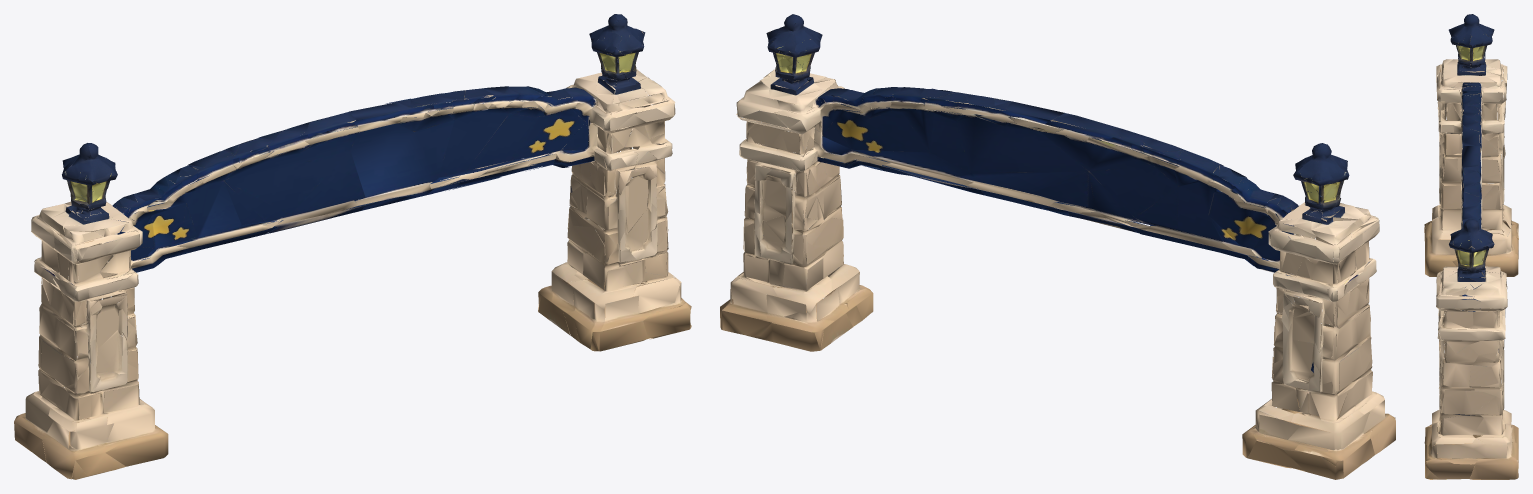
Rendered from arch.glb.
3 renders of one model, left to right at view 1: azimuth 30°, elevation 25°; view 2: azimuth 150°, elevation 25°; view 3: azimuth 270°, elevation 25°, orthographic. The views are drawn at different scales.
Visible parts, largest first — view 1: arch; view 2: arch; view 3: arch.
Part boxes in pixels (x1=…): arch: x1=14, y1=14, x2=691, y2=479; arch: x1=720, y1=14, x2=1395, y2=479; arch: x1=1424, y1=14, x2=1518, y2=479.
Size of the model in its own units: 14.19 by 6.61 by 2.34.
Materials: 1 (1 with a texture image).
